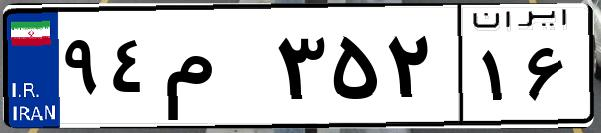1: (475, 38, 525, 113)
2: (385, 28, 445, 110)
3: (270, 28, 330, 110)
4: (110, 28, 158, 98)
5: (330, 28, 385, 110)
6: (525, 38, 570, 115)
9: (57, 26, 110, 100)
م: (158, 20, 270, 120)
